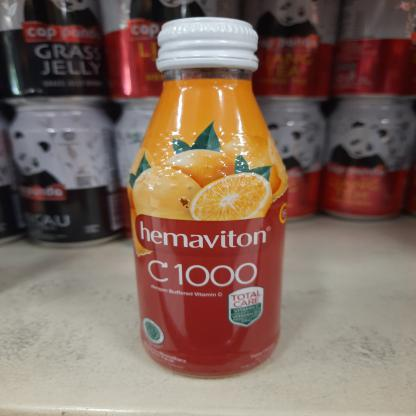can: (0, 88, 108, 236), (319, 94, 415, 220), (0, 0, 114, 95), (335, 0, 416, 96)
glass: (122, 19, 295, 382)
